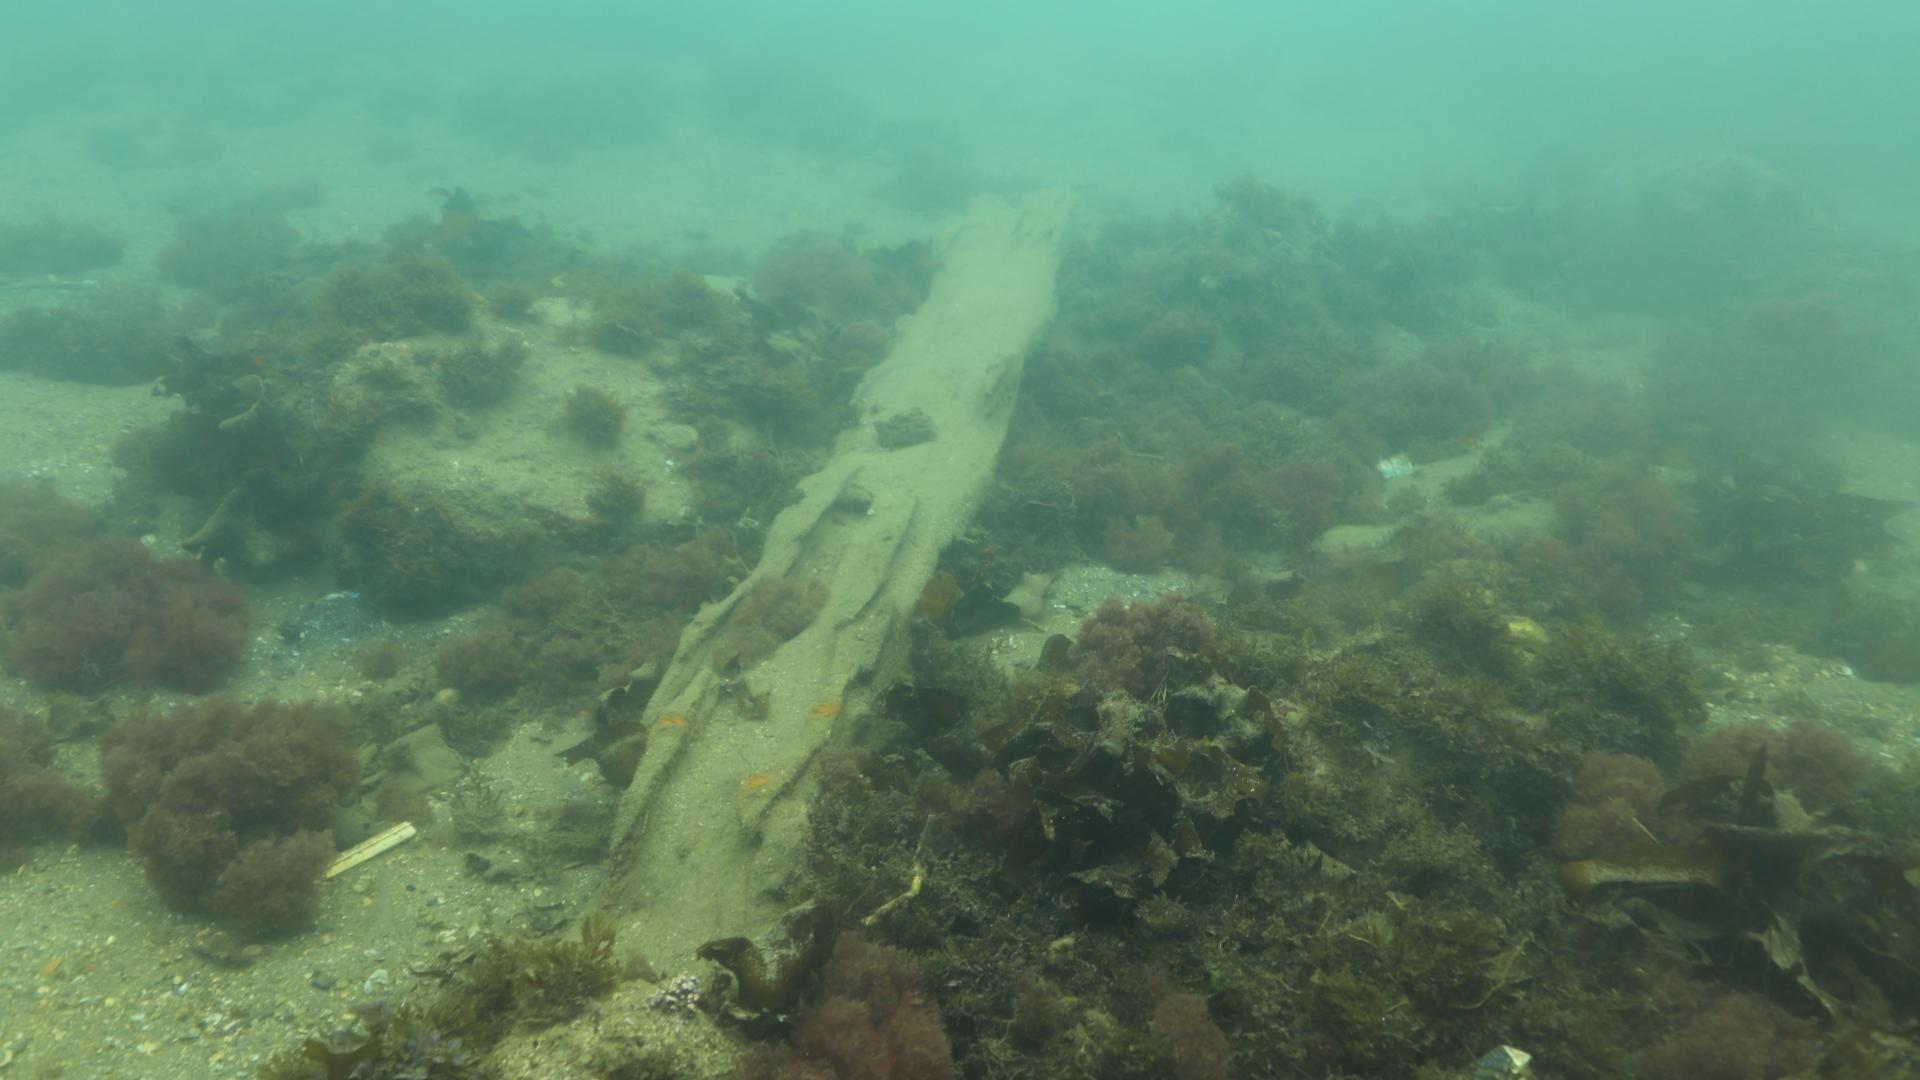wood: (551, 186, 1068, 973)
